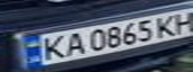0: (87, 26, 109, 52)
5: (136, 17, 160, 43)
6: (121, 20, 142, 46)
8: (106, 24, 124, 49)
A: (60, 29, 87, 57)
H: (169, 8, 193, 34)
K: (36, 34, 69, 62), (151, 12, 184, 38)
